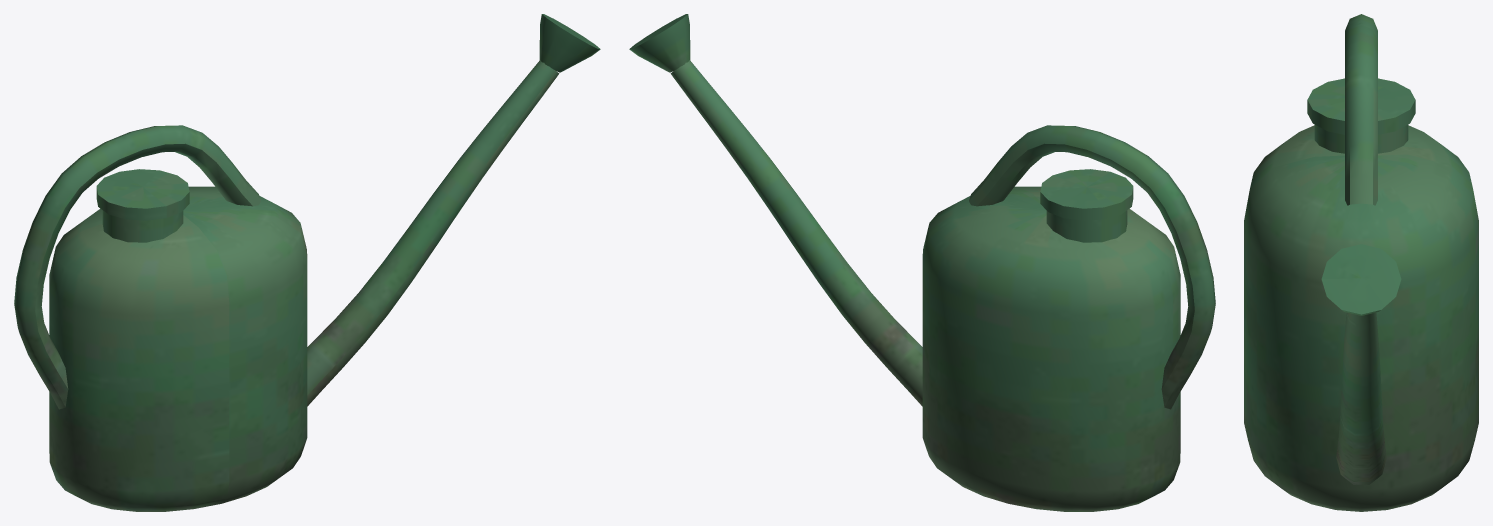
The model's file is green-plastic-watering-can.fbx.
The picture shows the model from 3 angles, left to right: view 1: azimuth 30°, elevation 25°; view 2: azimuth 150°, elevation 25°; view 3: azimuth 270°, elevation 25°; orthographic projection. The views are drawn at different scales.
Visible parts, largest first — view 1: watering_can; view 2: watering_can; view 3: watering_can.
Part boxes in pixels (x1,y1,x2,y2): watering_can: [14, 14, 600, 511]; watering_can: [629, 14, 1215, 511]; watering_can: [1244, 14, 1478, 511].
Size of the model in its own units: 65.52 by 39.24 by 20.
1 material, 1 textured.
